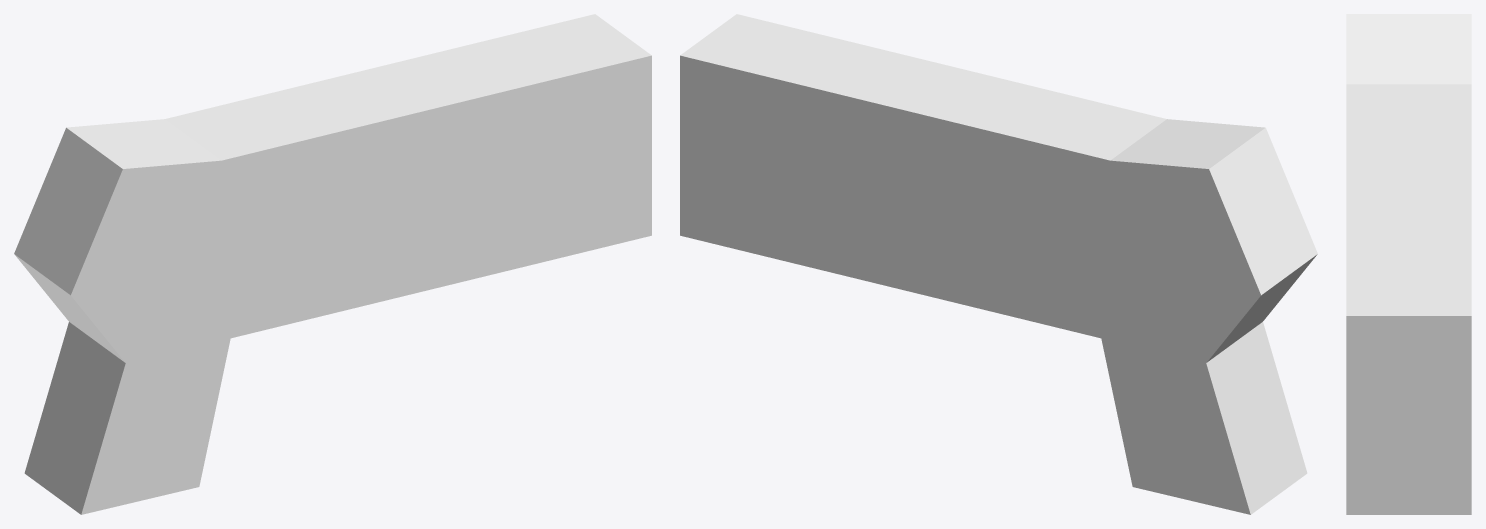
Rendered from PistolCollider.obj.
3 views of the same model, side by side, from view 1: azimuth 30°, elevation 25°; view 2: azimuth 150°, elevation 25°; view 3: azimuth 270°, elevation 25° (orthographic). The views are drawn at different scales.
Visible parts, largest first — view 1: pCube1; view 2: pCube1; view 3: pCube1.
Part boxes in pixels (box(x1,y1,x2,y2)): pCube1: box(14, 14, 651, 514); pCube1: box(680, 14, 1317, 514); pCube1: box(1346, 14, 1471, 514).
Size of the model in its own units: 21.61 by 11.95 by 3.65.
